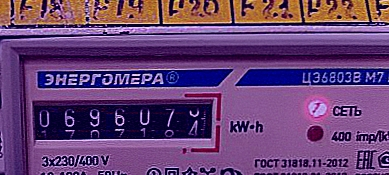0: (135, 105, 150, 127), (35, 108, 49, 129)
4: (185, 118, 198, 140)
6: (60, 107, 74, 128), (110, 107, 124, 127)
7: (160, 107, 175, 128)
9: (85, 107, 98, 128)
screen: (18, 91, 224, 151)
